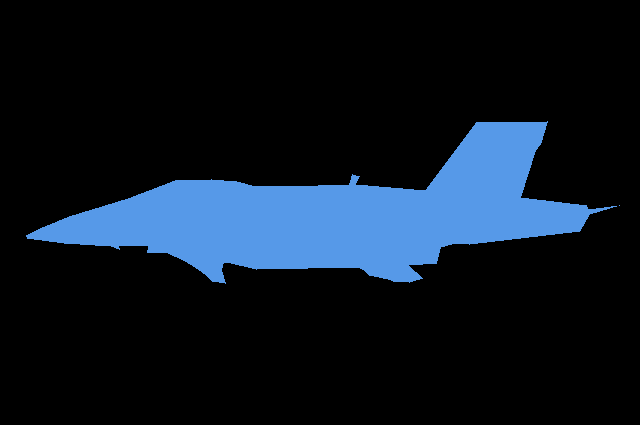Airplane: (26, 121, 620, 284)
